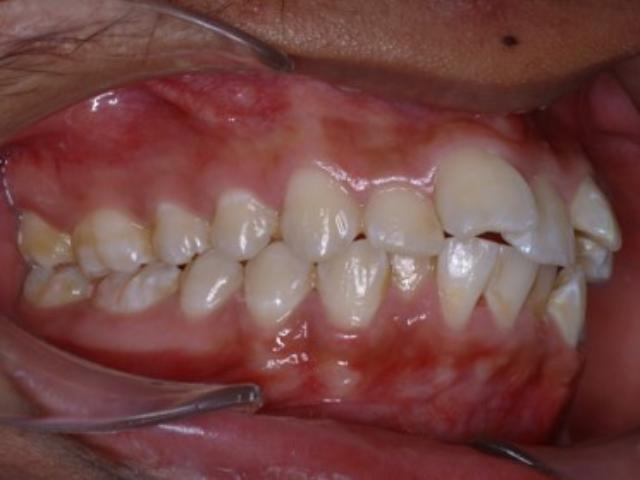canine class I: (238, 156, 390, 336)
molar class I: (66, 209, 182, 320)
